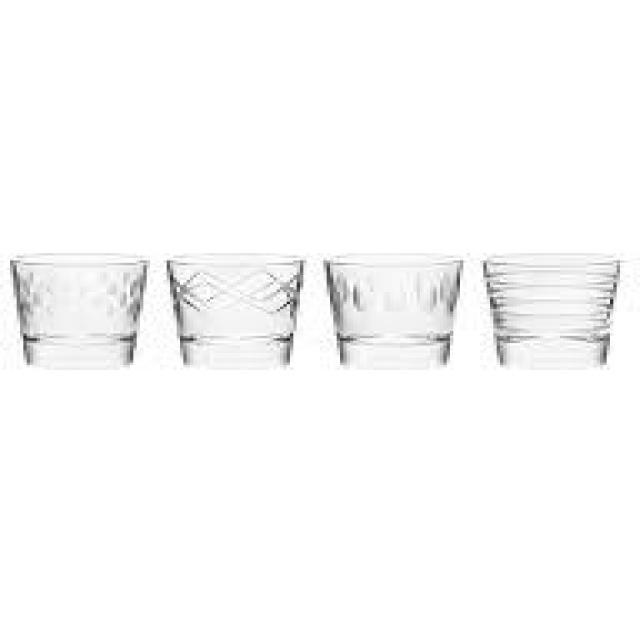glass: (320, 255, 467, 368), (479, 256, 624, 365)
